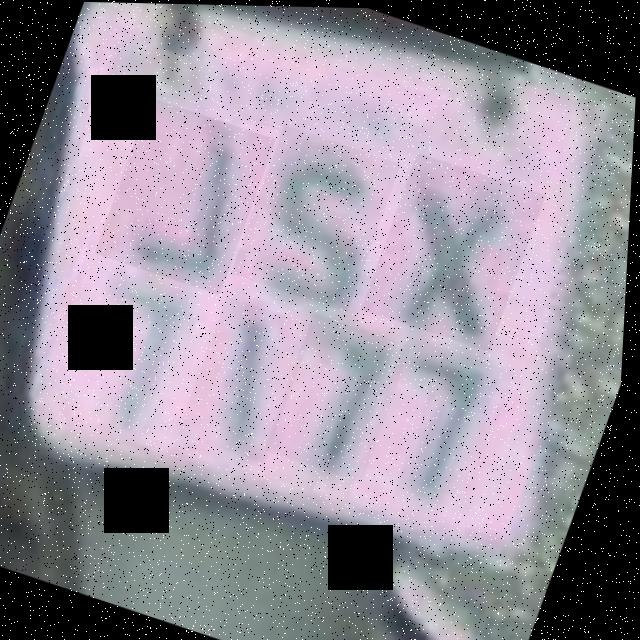1: (180, 294, 318, 462)
7: (55, 249, 229, 455), (363, 333, 520, 499), (267, 311, 416, 481)
J: (95, 95, 278, 294)
S: (232, 123, 403, 311)
X: (363, 150, 549, 350)
